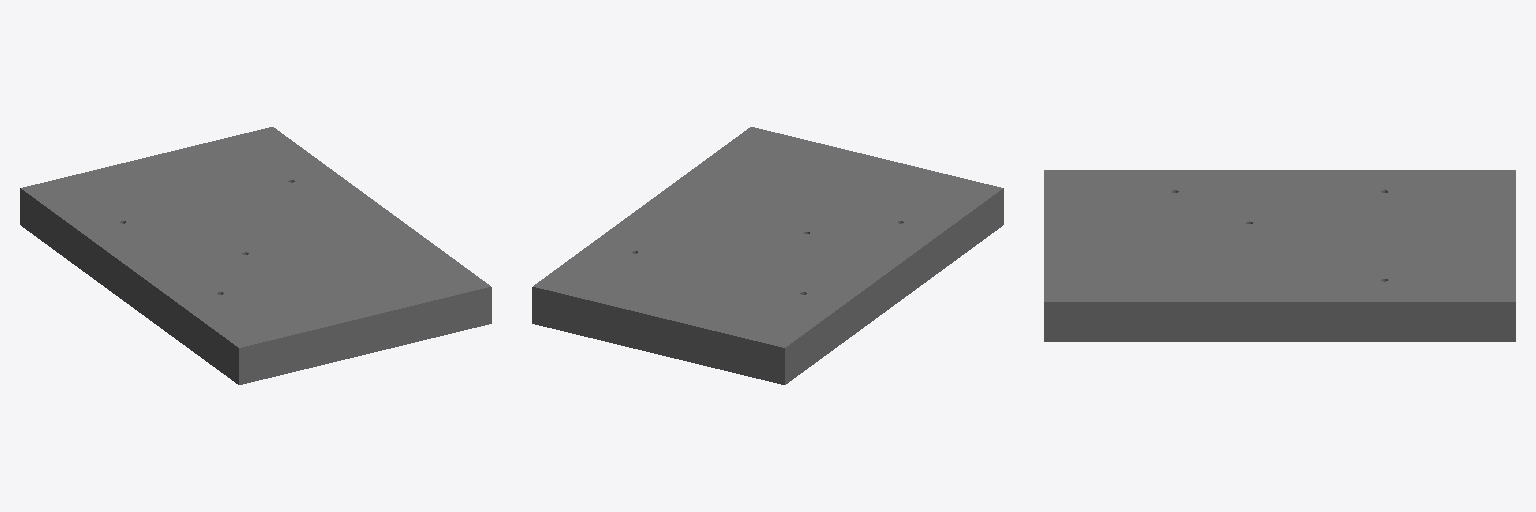
The robot description file, URDF, robot "push_object":
<?xml version="1.0" ?>
<robot name="push_object">
  <link name="link_x">
    <inertial>
      <mass value="0"/>
      <inertia ixx="0.0" ixy="0.0" ixz="0.0" iyy="0.0" iyz="0.0" izz="0.0"/>
    </inertial>
  </link>

  <link name="link_y">
    <inertial>
      <mass value="0"/>
      <inertia ixx="0.0" ixy="0.0" ixz="0.0" iyy="0.0" iyz="0.0" izz="0.0"/>
    </inertial>
  </link>
  
  <link name="link_z">
    <inertial>
      <mass value="0"/>
      <inertia ixx="0.0" ixy="0.0" ixz="0.0" iyy="0.0" iyz="0.0" izz="0.0"/>
    </inertial>
  </link>
  
  <link name="link_yaw">
    <inertial>
      <mass value="0"/>
      <inertia ixx="0.0" ixy="0.0" ixz="0.0" iyy="0.0" iyz="0.0" izz="0.0"/>
    </inertial>
  </link>

  <link name="link_object">
    <contact>
      <rolling_friction value="0.03"/>
      <spinning_friction value="0.03"/>
    </contact>

    <inertial>
      <origin rpy="0 0 0" xyz="0 0 0"/>
       <mass value="0.006350"/>
       <inertia ixx="1.251000" ixy="0" ixz="0" iyy="0.002740" iyz="0" izz="1"/>
    </inertial>
    <visual>
      <origin rpy="0 0 0" xyz="0 0 0.002740"/>
      <geometry>
        <mesh filename="rect3.obj" scale="1.0 1.0 1.0"/>      
      </geometry>
      <material name="gray">
        <color rgba="0.5 0.5 0.5 1"/>
        <specular rgb="1 1 1"/>
      </material>
    </visual>
    
    <collision>
      <origin rpy="0 0 0" xyz="-0.0400 -0.0600 -0.0063"/>
      <geometry>
        <sphere radius="0.0065"/>
      </geometry>
    </collision>
        
    <collision>
      <origin rpy="0 0 0" xyz="-0.0400 -0.0400 -0.0063"/>
      <geometry>
        <sphere radius="0.0065"/>
      </geometry>
    </collision>
        
    <collision>
      <origin rpy="0 0 0" xyz="-0.0400 -0.0200 -0.0063"/>
      <geometry>
        <sphere radius="0.0065"/>
      </geometry>
    </collision>
        
    <collision>
      <origin rpy="0 0 0" xyz="-0.0400 0.0000 -0.0063"/>
      <geometry>
        <sphere radius="0.0065"/>
      </geometry>
    </collision>
        
    <collision>
      <origin rpy="0 0 0" xyz="-0.0400 0.0200 -0.0063"/>
      <geometry>
        <sphere radius="0.0065"/>
      </geometry>
    </collision>
        
    <collision>
      <origin rpy="0 0 0" xyz="-0.0400 0.0400 -0.0063"/>
      <geometry>
        <sphere radius="0.0065"/>
      </geometry>
    </collision>
        
    <collision>
      <origin rpy="0 0 0" xyz="-0.0400 0.0600 -0.0063"/>
      <geometry>
        <sphere radius="0.0065"/>
      </geometry>
    </collision>
        
    <collision>
      <origin rpy="0 0 0" xyz="-0.0200 -0.0600 -0.0063"/>
      <geometry>
        <sphere radius="0.0065"/>
      </geometry>
    </collision>
        
    <collision>
      <origin rpy="0 0 0" xyz="-0.0200 -0.0400 -0.0063"/>
      <geometry>
        <sphere radius="0.0065"/>
      </geometry>
    </collision>
        
    <collision>
      <origin rpy="0 0 0" xyz="-0.0200 -0.0200 -0.0063"/>
      <geometry>
        <sphere radius="0.0065"/>
      </geometry>
    </collision>
        
    <collision>
      <origin rpy="0 0 0" xyz="-0.0200 0.0000 -0.0063"/>
      <geometry>
        <sphere radius="0.0065"/>
      </geometry>
    </collision>
        
    <collision>
      <origin rpy="0 0 0" xyz="-0.0200 0.0200 -0.0063"/>
      <geometry>
        <sphere radius="0.0065"/>
      </geometry>
    </collision>
        
    <collision>
      <origin rpy="0 0 0" xyz="-0.0200 0.0400 -0.0063"/>
      <geometry>
        <sphere radius="0.0065"/>
      </geometry>
    </collision>
        
    <collision>
      <origin rpy="0 0 0" xyz="-0.0200 0.0600 -0.0063"/>
      <geometry>
        <sphere radius="0.0065"/>
      </geometry>
    </collision>
        
    <collision>
      <origin rpy="0 0 0" xyz="0.0000 -0.0600 -0.0063"/>
      <geometry>
        <sphere radius="0.0065"/>
      </geometry>
    </collision>
        
    <collision>
      <origin rpy="0 0 0" xyz="0.0000 -0.0400 -0.0063"/>
      <geometry>
        <sphere radius="0.0065"/>
      </geometry>
    </collision>
        
    <collision>
      <origin rpy="0 0 0" xyz="0.0000 -0.0200 -0.0063"/>
      <geometry>
        <sphere radius="0.0065"/>
      </geometry>
    </collision>
        
    <collision>
      <origin rpy="0 0 0" xyz="0.0000 0.0000 -0.0063"/>
      <geometry>
        <sphere radius="0.0065"/>
      </geometry>
    </collision>
        
    <collision>
      <origin rpy="0 0 0" xyz="0.0000 0.0200 -0.0063"/>
      <geometry>
        <sphere radius="0.0065"/>
      </geometry>
    </collision>
        
    <collision>
      <origin rpy="0 0 0" xyz="0.0000 0.0400 -0.0063"/>
      <geometry>
        <sphere radius="0.0065"/>
      </geometry>
    </collision>
        
    <collision>
      <origin rpy="0 0 0" xyz="0.0000 0.0600 -0.0063"/>
      <geometry>
        <sphere radius="0.0065"/>
      </geometry>
    </collision>
        
    <collision>
      <origin rpy="0 0 0" xyz="0.0200 -0.0600 -0.0063"/>
      <geometry>
        <sphere radius="0.0065"/>
      </geometry>
    </collision>
        
    <collision>
      <origin rpy="0 0 0" xyz="0.0200 -0.0400 -0.0063"/>
      <geometry>
        <sphere radius="0.0065"/>
      </geometry>
    </collision>
        
    <collision>
      <origin rpy="0 0 0" xyz="0.0200 -0.0200 -0.0063"/>
      <geometry>
        <sphere radius="0.0065"/>
      </geometry>
    </collision>
        
    <collision>
      <origin rpy="0 0 0" xyz="0.0200 0.0000 -0.0063"/>
      <geometry>
        <sphere radius="0.0065"/>
      </geometry>
    </collision>
        
    <collision>
      <origin rpy="0 0 0" xyz="0.0200 0.0200 -0.0063"/>
      <geometry>
        <sphere radius="0.0065"/>
      </geometry>
    </collision>
        
    <collision>
      <origin rpy="0 0 0" xyz="0.0200 0.0400 -0.0063"/>
      <geometry>
        <sphere radius="0.0065"/>
      </geometry>
    </collision>
        
    <collision>
      <origin rpy="0 0 0" xyz="0.0200 0.0600 -0.0063"/>
      <geometry>
        <sphere radius="0.0065"/>
      </geometry>
    </collision>
        
    <collision>
      <origin rpy="0 0 0" xyz="0.0400 -0.0600 -0.0063"/>
      <geometry>
        <sphere radius="0.0065"/>
      </geometry>
    </collision>
        
    <collision>
      <origin rpy="0 0 0" xyz="0.0400 -0.0400 -0.0063"/>
      <geometry>
        <sphere radius="0.0065"/>
      </geometry>
    </collision>
        
    <collision>
      <origin rpy="0 0 0" xyz="0.0400 -0.0200 -0.0063"/>
      <geometry>
        <sphere radius="0.0065"/>
      </geometry>
    </collision>
        
    <collision>
      <origin rpy="0 0 0" xyz="0.0400 0.0000 -0.0063"/>
      <geometry>
        <sphere radius="0.0065"/>
      </geometry>
    </collision>
        
    <collision>
      <origin rpy="0 0 0" xyz="0.0400 0.0200 -0.0063"/>
      <geometry>
        <sphere radius="0.0065"/>
      </geometry>
    </collision>
        
    <collision>
      <origin rpy="0 0 0" xyz="0.0400 0.0400 -0.0063"/>
      <geometry>
        <sphere radius="0.0065"/>
      </geometry>
    </collision>
        
    <collision>
      <origin rpy="0 0 0" xyz="0.0400 0.0600 -0.0063"/>
      <geometry>
        <sphere radius="0.0065"/>
      </geometry>
    </collision>
        
  </link>
  
  <joint name="joint_x" type="prismatic">
    <axis xyz="1 0 0"/>
    <origin xyz="0.0 0.0 0"/>
    <parent link="link_x"/>
    <child link="link_y"/>
    <limit effort="1000.0" lower="-15" upper="15" velocity="5"/>
  </joint>

  <joint name="joint_y" type="prismatic">
    <axis xyz="0 1 0"/>
    <origin xyz="0.0 0.0 0"/>
    <parent link="link_y"/>
    <child link="link_z"/>
    <limit effort="1000.0" lower="-15" upper="15" velocity="5"/>
  </joint>

  <joint name="joint_z" type="prismatic">
    <axis xyz="0 0 1"/>
    <origin xyz="0.0 0.0 0"/>
    <parent link="link_z"/>
    <child link="link_yaw"/>
    <limit effort="1000.0" lower="-15" upper="15" velocity="5"/>
  </joint>

  <joint name="joint_yaw" type="continuous">
    <axis xyz="0 0 1"/>
    <origin xyz="0.0 0.0 0"/>
    <parent link="link_yaw"/>
    <child link="link_object"/>
  </joint>
</robot>

--- Facts derived from the render (not from the file) ---
The picture shows the robot from 3 angles, left to right: view 1: azimuth 30°, elevation 25°; view 2: azimuth 150°, elevation 25°; view 3: azimuth 270°, elevation 25°; orthographic projection.
Model push_object with 5 links and 4 joints (1 continuous, 3 prismatic), rooted at link_x, posed all joints at 0.
Links seen in each view (by area): view 1: link_object; view 2: link_object; view 3: link_object.
Link boxes in pixels (left/top/right/bottom): link_object: left=20, top=127, right=491, bottom=384; link_object: left=532, top=127, right=1003, bottom=384; link_object: left=1044, top=170, right=1515, bottom=341.
Size in the robot's own frame: 0.09 by 0.135 by 0.0127 metres.
1 mesh visuals loaded from 1 distinct referenced files (1 OBJ).